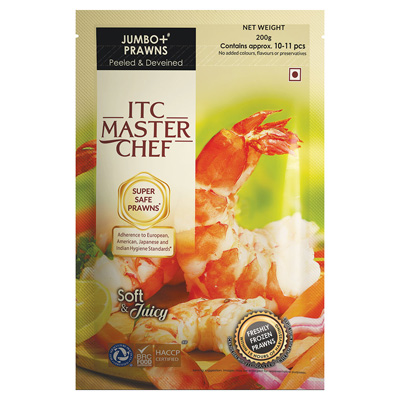nonveg_red: (287, 66, 303, 83)
